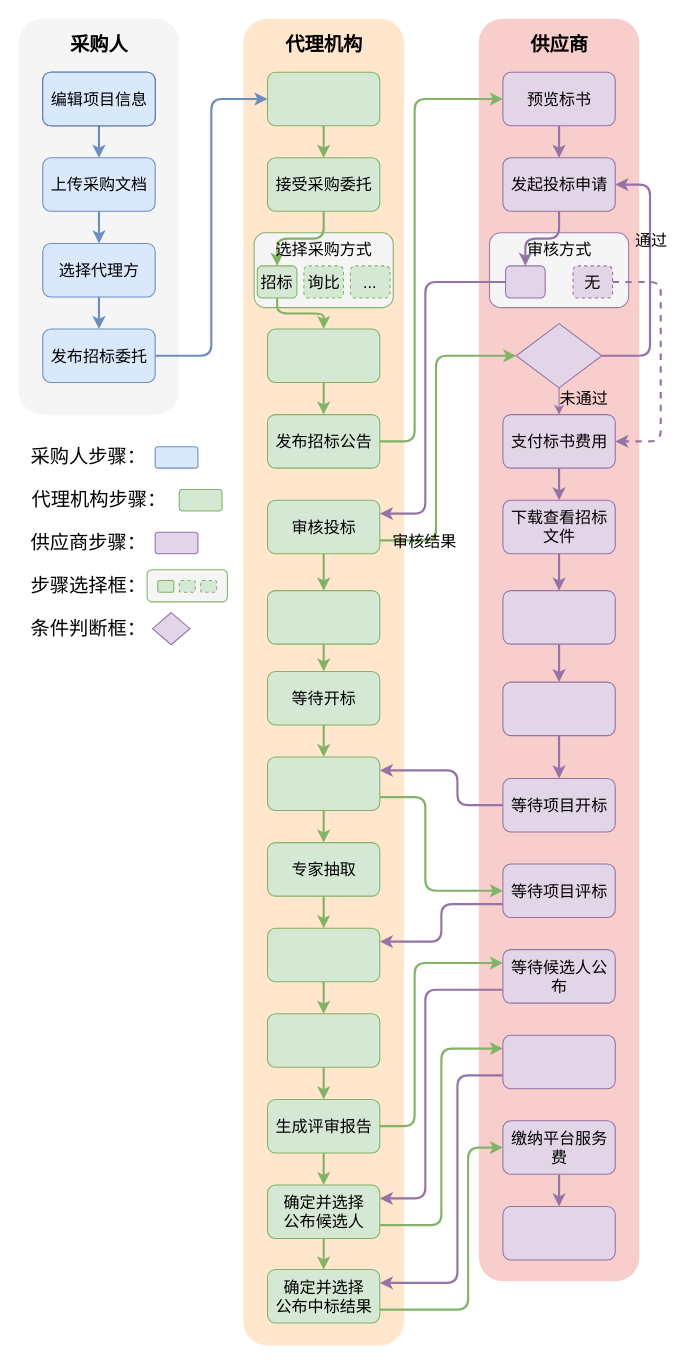
Image size: 689x1363. Some labels were removed from this diagram. Each missing label, with the centre of its shape:
上传加密投标文件: point (558, 708)
人工: point (525, 281)
完成中标: point (558, 1232)
开始评标: point (323, 954)
支付保证金: point (558, 617)
查看委托信息: point (323, 98)
等待专家评审: point (323, 1040)
等待中标结果: point (558, 1061)
等待审核: point (558, 355)
等待报名截止: point (323, 617)
编辑招标信息: point (323, 355)
项目开标 解密文件: point (323, 783)
